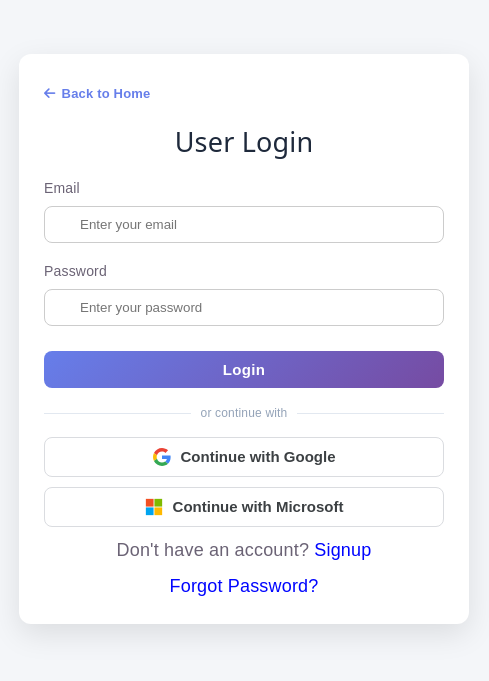
Test: UserAuth › shows OTP input view after a successful signup form submit
Click the link "Signup" at (343, 550), box [314,540,371,560]
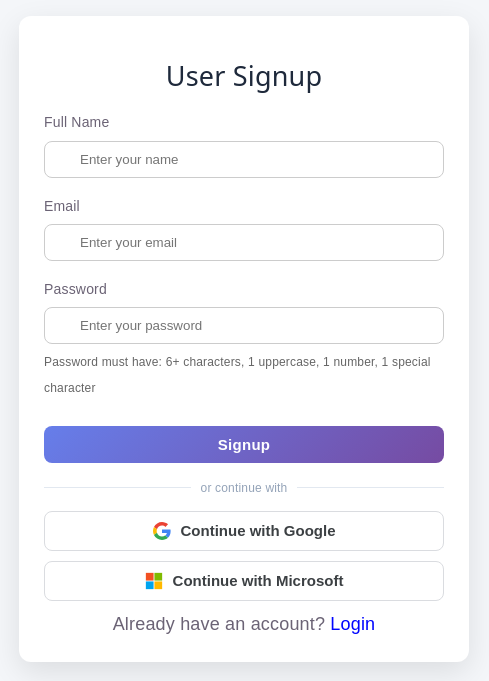
Type "Test User" into the field with placeholder "Enter your name" at (244, 159), box [44,140,444,178]
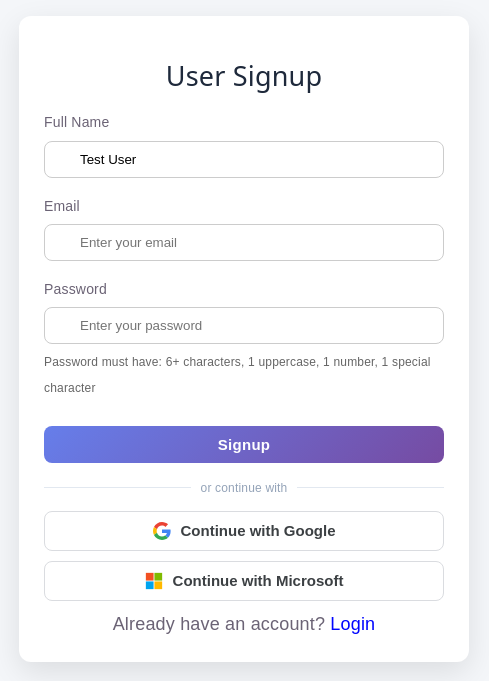
Type "test@example.com" into the field with placeholder "Enter your email" at (244, 242), box [44,224,444,261]
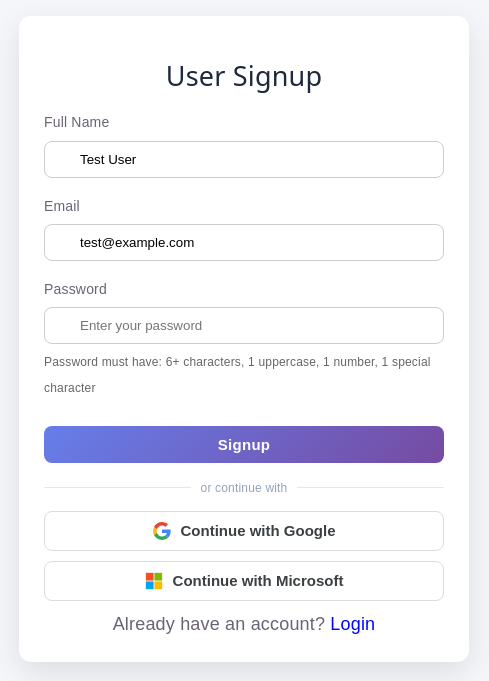
Type "StrongPass1!" into the password field with placeholder "Enter your password" at (244, 325), box [44,307,444,344]
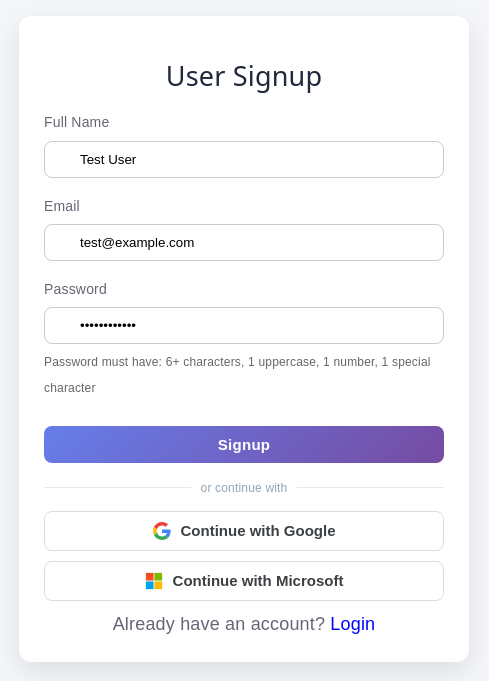
Submit the form from the button "Signup", box [44,426,444,463]
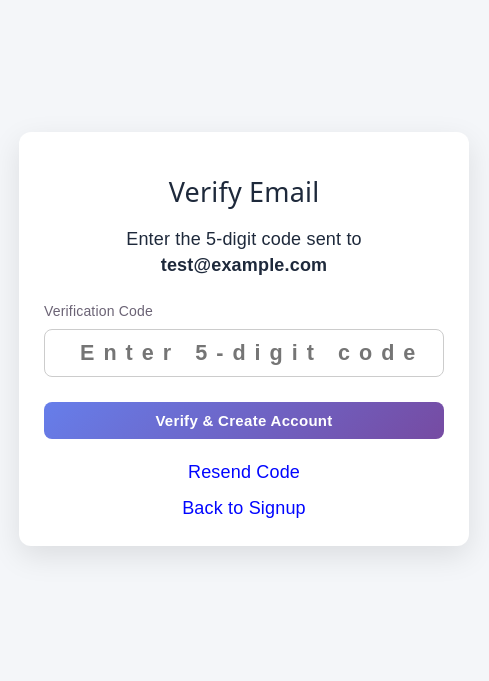
Check: the heading "Verify Email" is shown, box [169,173,319,210]
Check: the field with placeholder "Enter 5-digit code" is shown, box [44,329,444,377]
